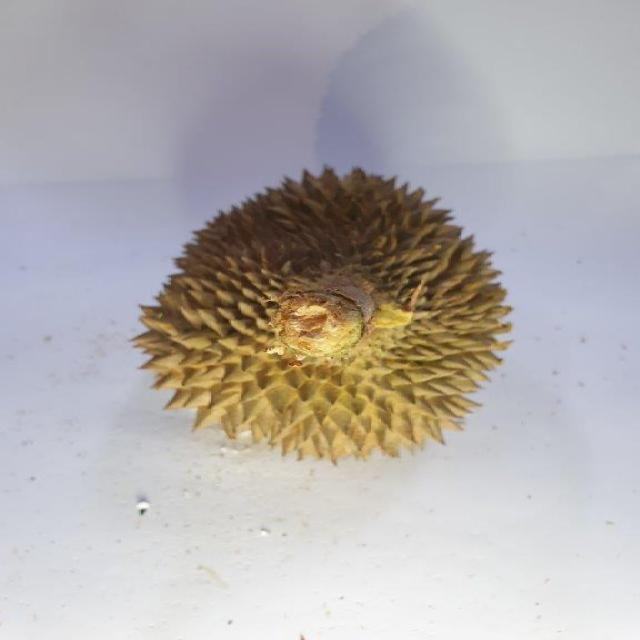mature: (131, 168, 516, 470)
